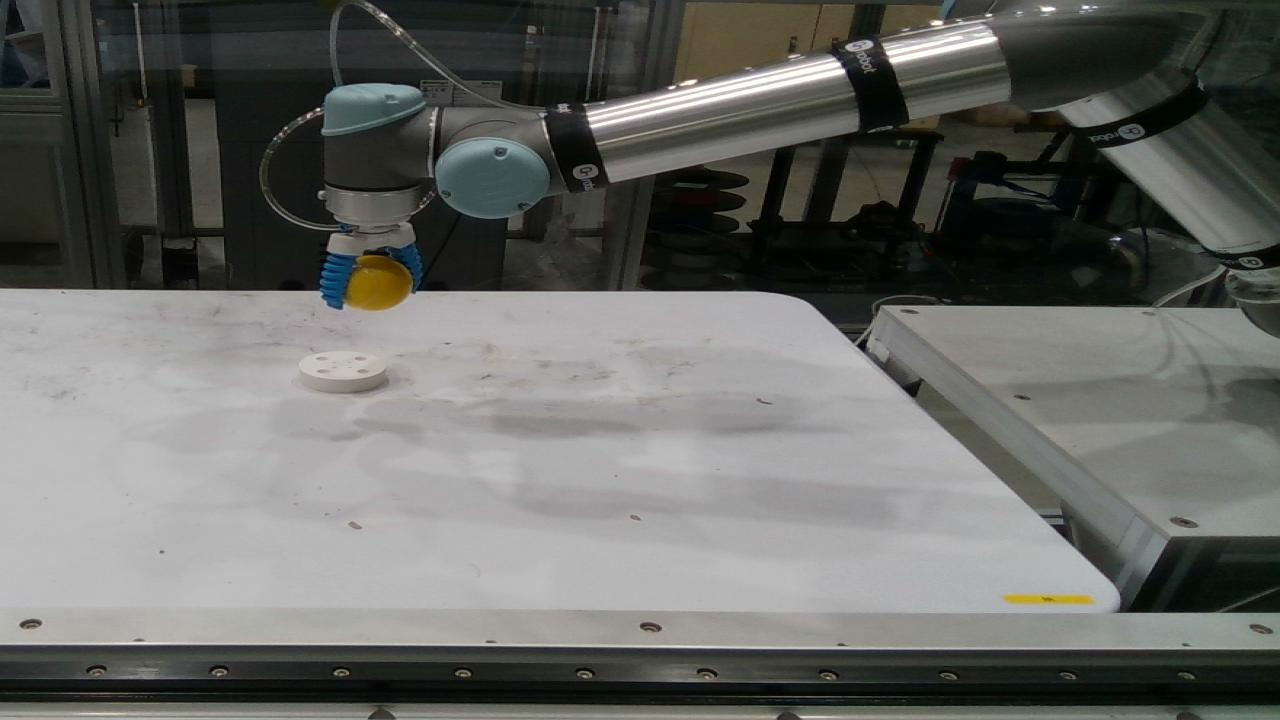UR5: (326, 1, 1279, 337)
gripper_left: (385, 245, 422, 286)
gripper_right: (322, 253, 352, 306)
target: (345, 255, 412, 310), (300, 353, 386, 394)
